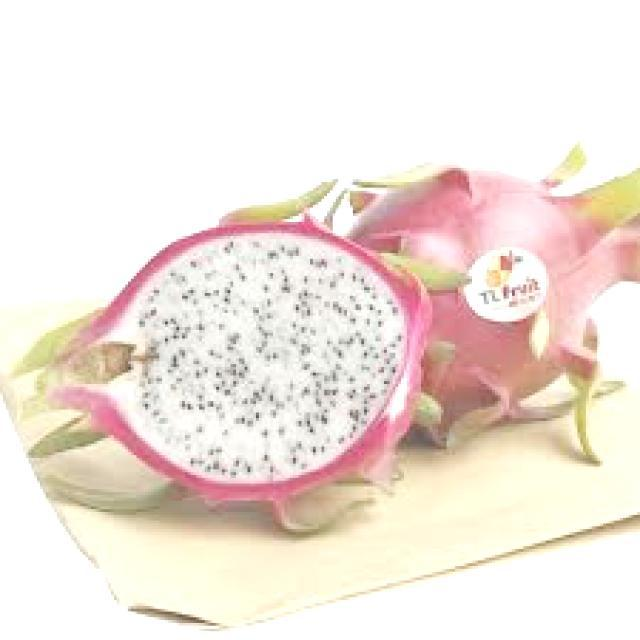trang: (17, 179, 430, 539), (330, 139, 637, 475)
